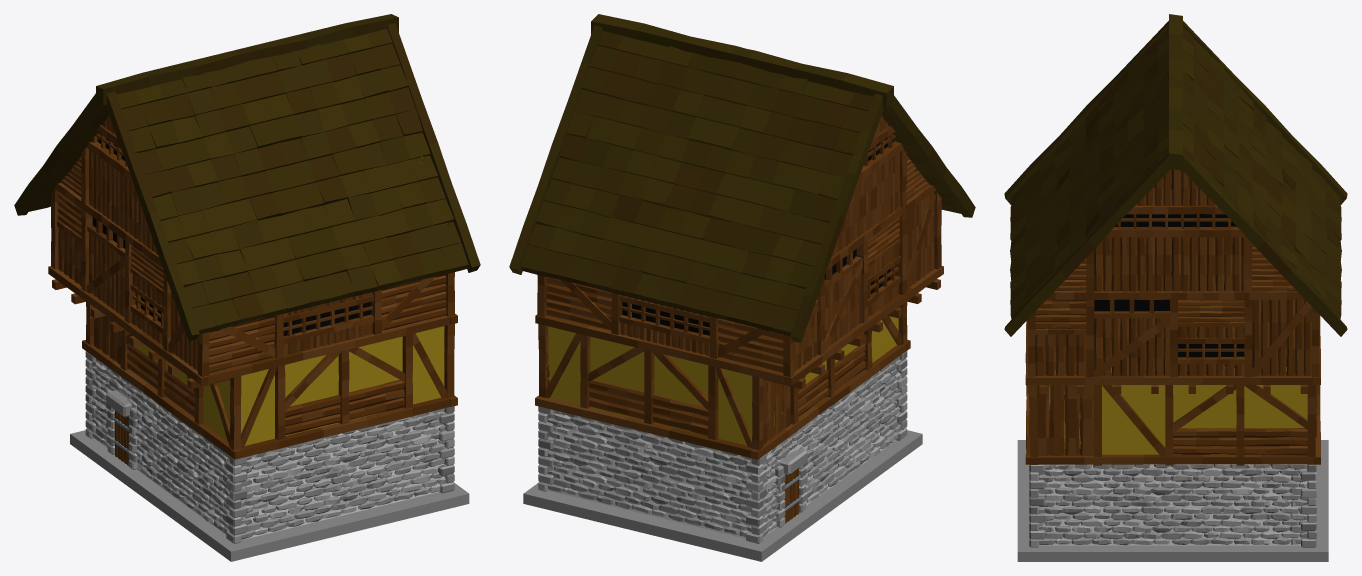
File: castle_town_house_4.fbx
3 views of the same model, side by side, from view 1: azimuth 30°, elevation 25°; view 2: azimuth 150°, elevation 25°; view 3: azimuth 270°, elevation 25° (orthographic). The views are drawn at different scales.
Parts seen in each view (by area): view 1: house 4; view 2: house 4; view 3: house 4.
Boxes of the visible parts, <box> form: house 4: <box>14,14,480,561</box>; house 4: <box>509,14,975,561</box>; house 4: <box>1004,14,1347,561</box>.
Bounding box in the file's own units: 7213 × 9603 × 6920.
